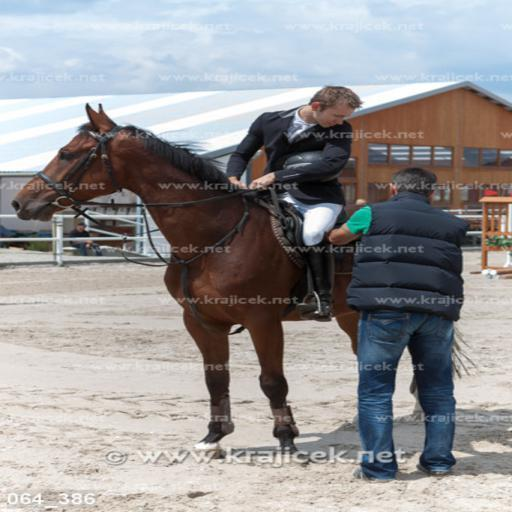horse: (6, 102, 475, 464)
